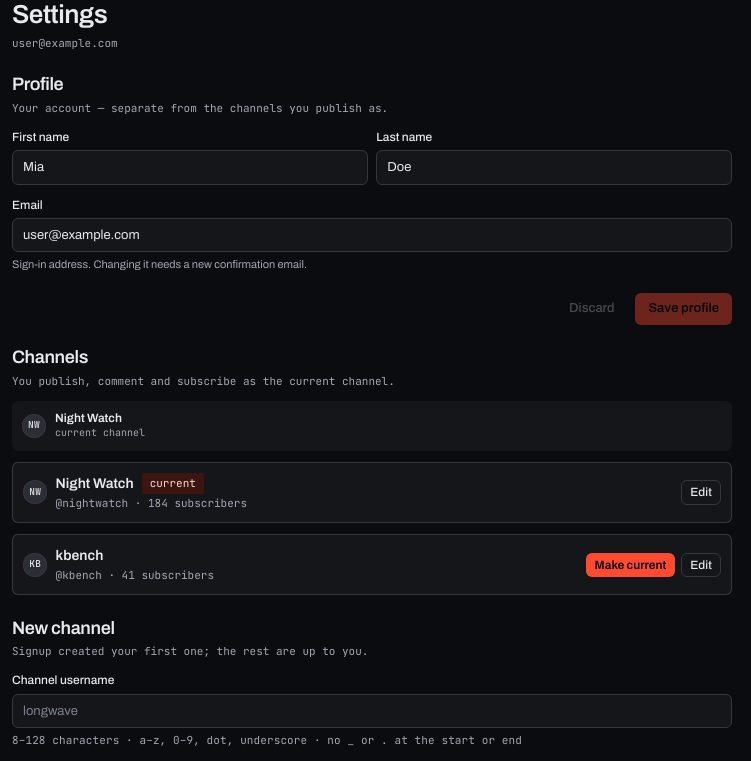
Test case: Settings — new channel › rejects a short/spaced username client-side and never posts
Type "kb nch" into the field labelled "Channel username".
click(372, 711); type("kb nch")  # box x1=12 y1=694 x2=732 y2=728
(page scrolled)
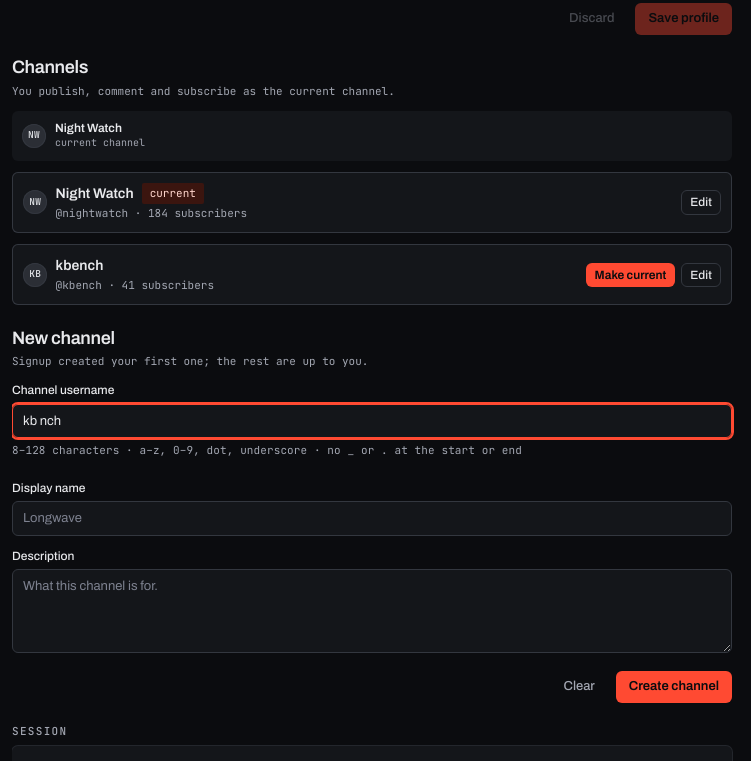
Click the button "Create channel".
click(674, 687)  # box x1=616 y1=671 x2=732 y2=703
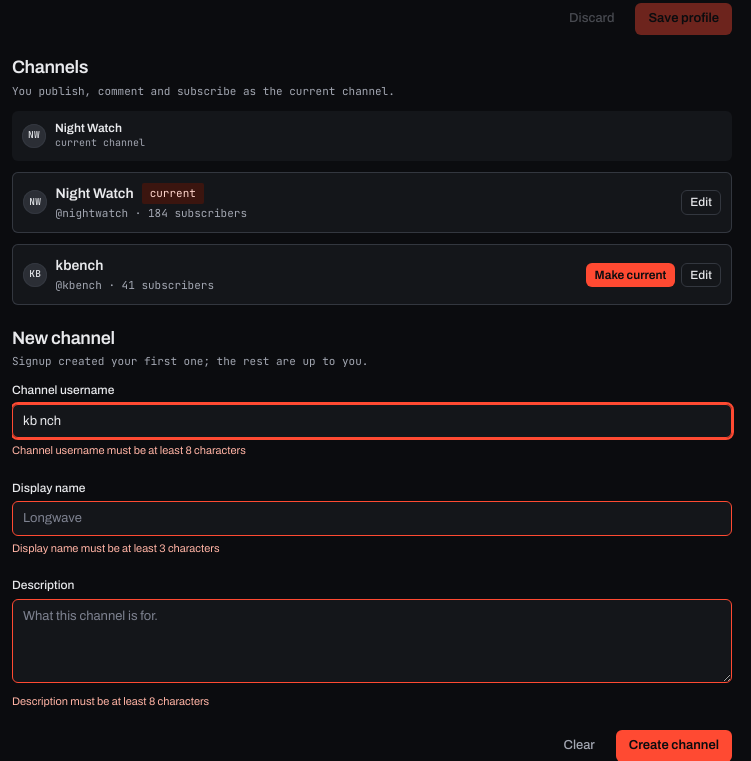
Now the text "Channel username must be at least 8 characters" is shown, box x1=12 y1=444 x2=246 y2=456
